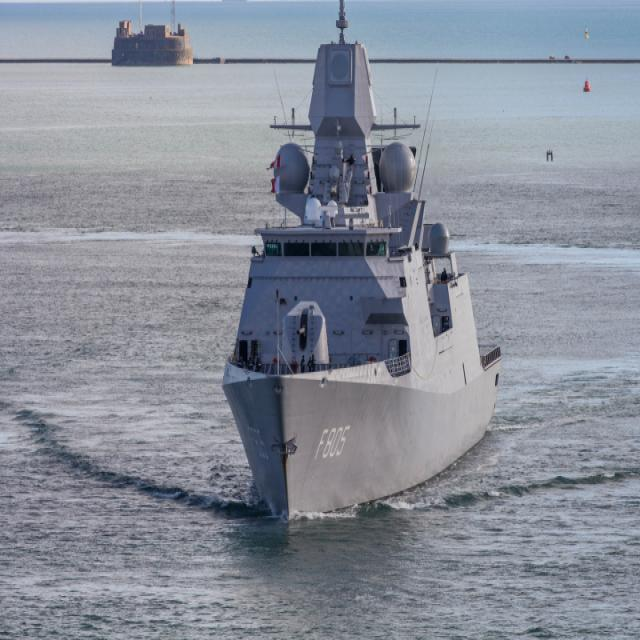Fragata: (223, 1, 509, 530)
